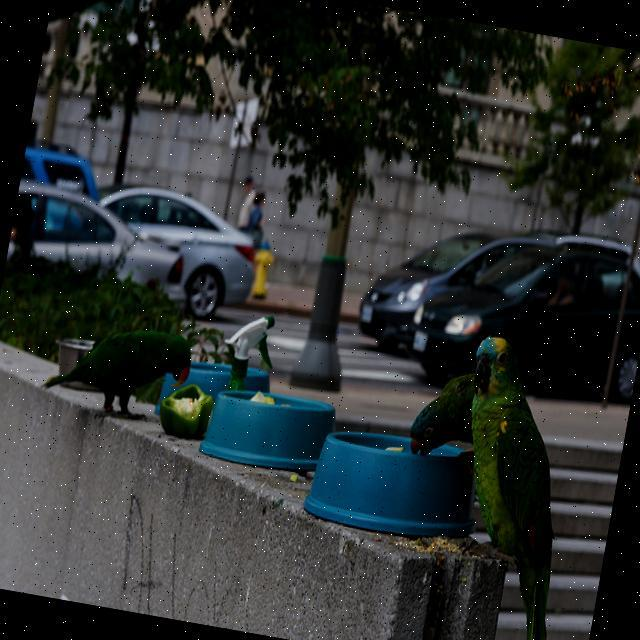fire_hydrant: (248, 236, 276, 298)
